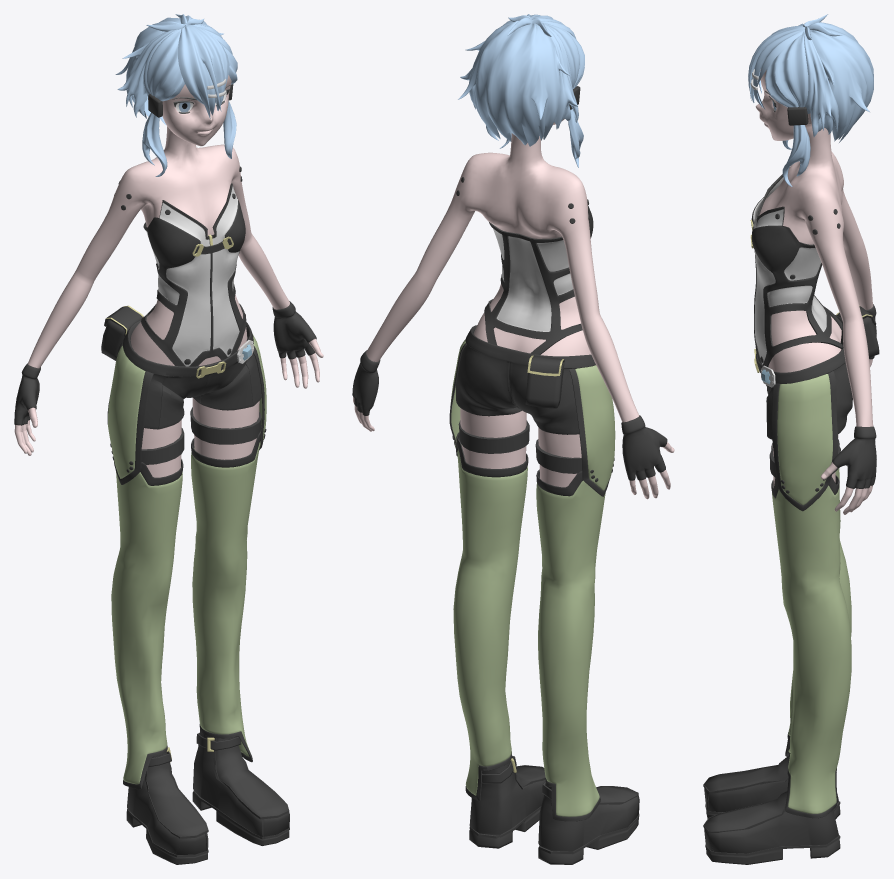
The model's file is sinon.fbx.
The picture shows the model from 3 angles, left to right: view 1: azimuth 30°, elevation 25°; view 2: azimuth 150°, elevation 25°; view 3: azimuth 270°, elevation 25°; orthographic projection. The views are drawn at different scales.
Visible parts, largest first — view 1: PantsLower, TorsoUpper, Shoes, BreastPlateLight, Shorts, BreastPlateDark, PantsUpper, Hair6, Gloves, Hair1, PantStraps, PantsLowerTrim (+6 smaller); view 2: PantsLower, TorsoUpper, Shoes, Hair5, Shorts, BreastPlateLight, PantsUpper, BreastPlateDark, Gloves, PantsLowerTrim, PantStraps, AmmoClip (+4 smaller); view 3: PantsLower, TorsoUpper, Shoes, PantsUpper, BreastPlateDark, Hair5, BreastPlateLight, Hair1, Shorts, Hair2, Gloves, PantsUpperTrim (+6 smaller).
Part boxes in pixels (box(x1,y1,x2,y2)): PantsLower: box(111, 441, 260, 784); TorsoUpper: box(14, 75, 323, 477); Shoes: box(126, 730, 289, 864); BreastPlateLight: box(146, 186, 239, 366); Shorts: box(122, 320, 261, 429); BreastPlateDark: box(141, 183, 246, 366); PantsUpper: box(108, 335, 266, 478); Hair6: box(178, 24, 229, 118); Gloves: box(14, 301, 316, 425); Hair1: box(147, 25, 237, 101); PantStraps: box(141, 407, 261, 464); PantsLowerTrim: box(123, 426, 261, 789); PantsLower: box(453, 444, 605, 816); TorsoUpper: box(353, 118, 674, 499); Shoes: box(469, 755, 639, 864); Hair5: box(458, 20, 570, 146); Shorts: box(456, 325, 595, 434); BreastPlateLight: box(492, 224, 573, 331); PantsUpper: box(450, 339, 615, 490); BreastPlateDark: box(484, 205, 593, 354); Gloves: box(352, 350, 667, 480); PantsLowerTrim: box(456, 432, 600, 821); PantStraps: box(458, 420, 582, 473); AmmoClip: box(525, 356, 564, 408); PantsLower: box(772, 468, 851, 813); TorsoUpper: box(755, 69, 873, 514); Shoes: box(704, 745, 840, 864); PantsUpper: box(777, 374, 832, 505); BreastPlateDark: box(751, 174, 842, 366); Hair5: box(810, 22, 873, 142); BreastPlateLight: box(753, 177, 826, 364); Hair1: box(765, 23, 808, 107); Shorts: box(756, 315, 852, 439); Hair2: box(804, 32, 838, 136); Gloves: box(832, 304, 876, 488); PantsUpperTrim: box(771, 371, 838, 511).
Size of the model in its own units: 49.25 by 124 by 24.44.
